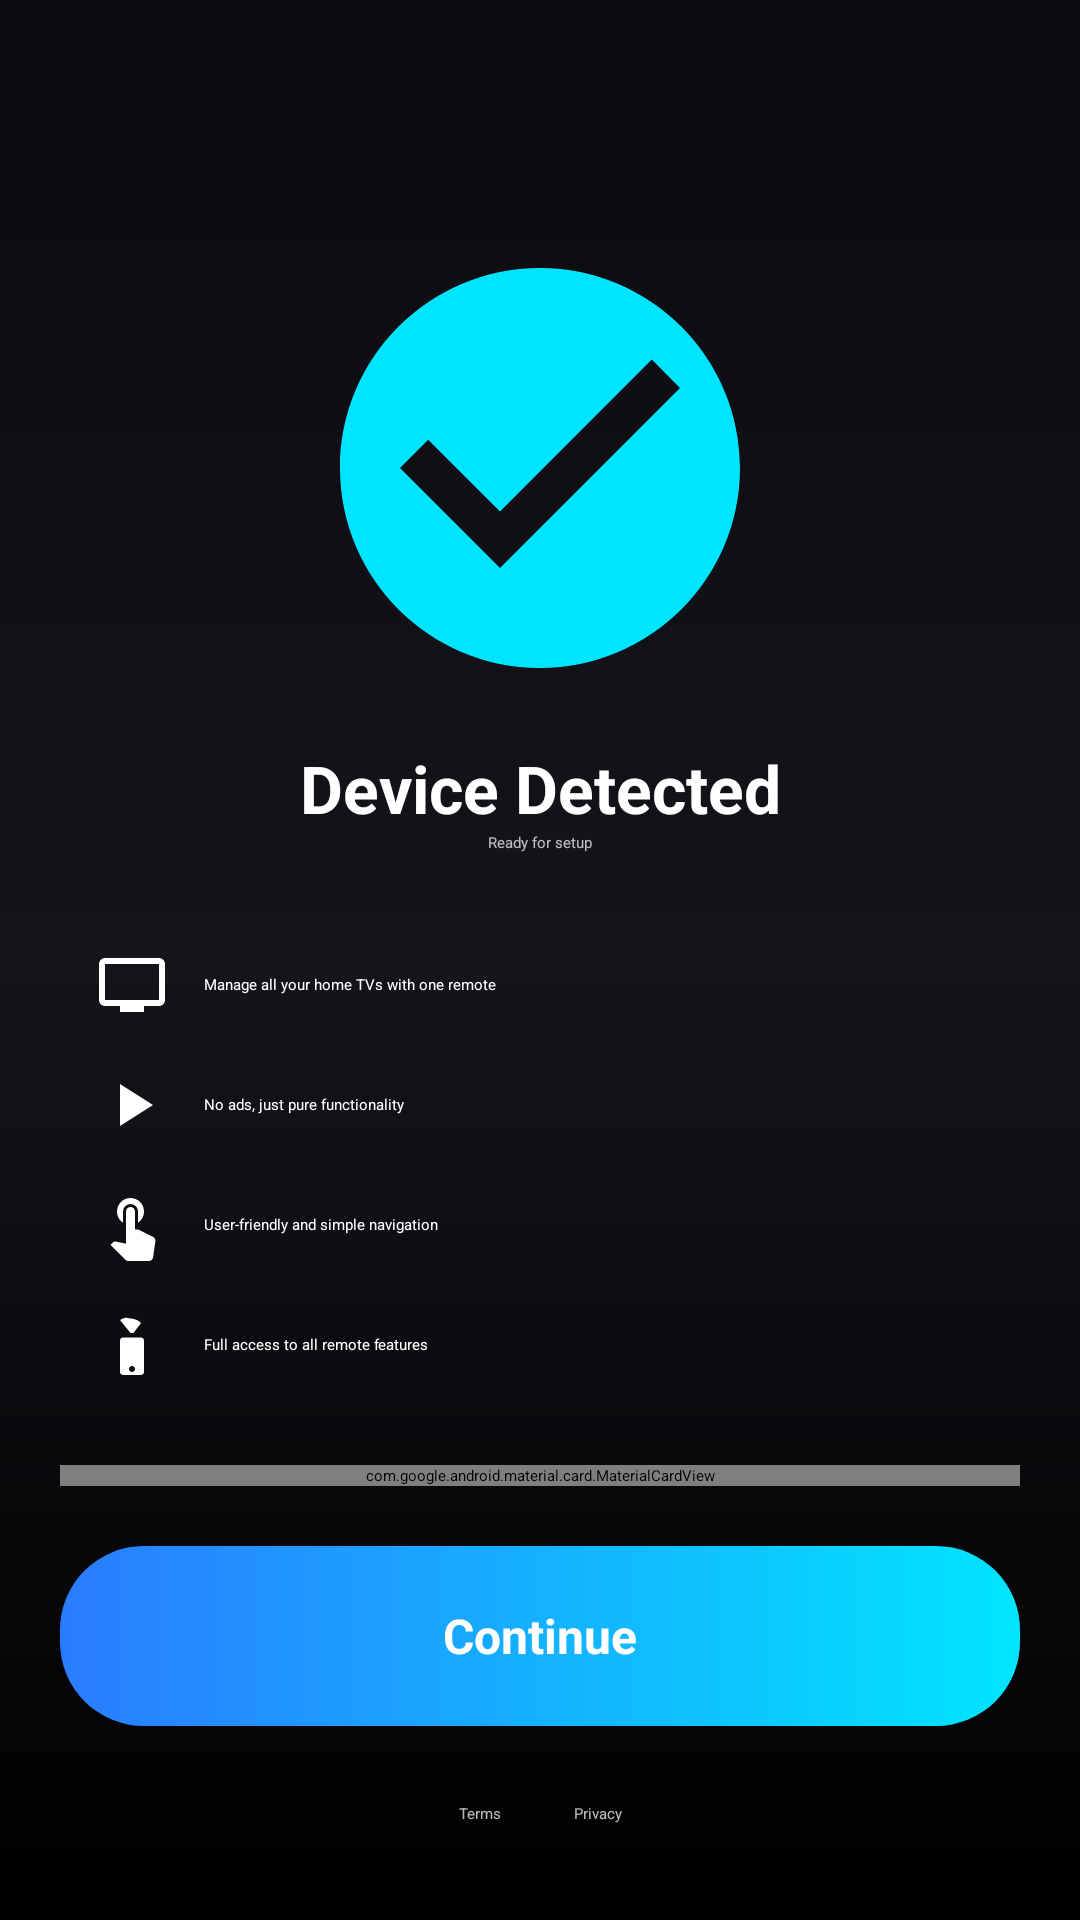

Icon bounding boxes for this 1080x1920 phone screenshot, format BBox(x1, y1, x2, y2):
finger: BBox(110, 1198, 156, 1261)
play: BBox(120, 1084, 153, 1126)
